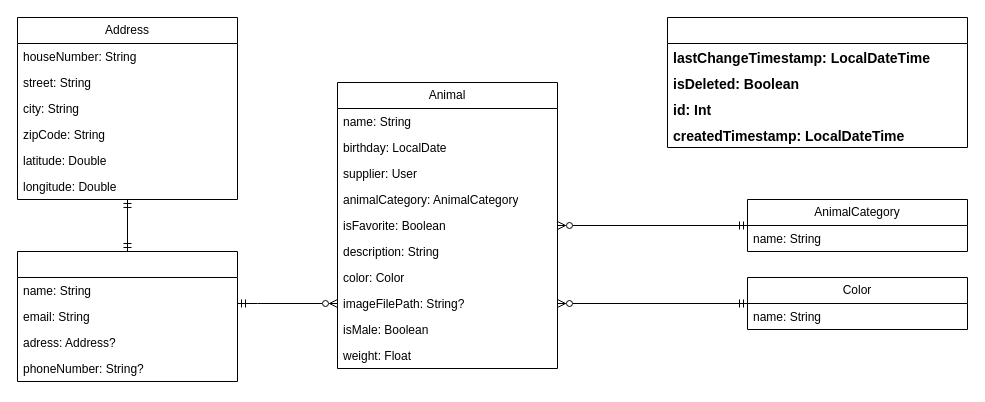
The diagram is 985 pixels wide and 402 high, and some of its shapes have lost their labels. The box of each missing label's shape, as (x1, y1, x2, y2) in pixels:
BaseEntity: (666, 16, 968, 148)
User: (16, 250, 238, 382)
